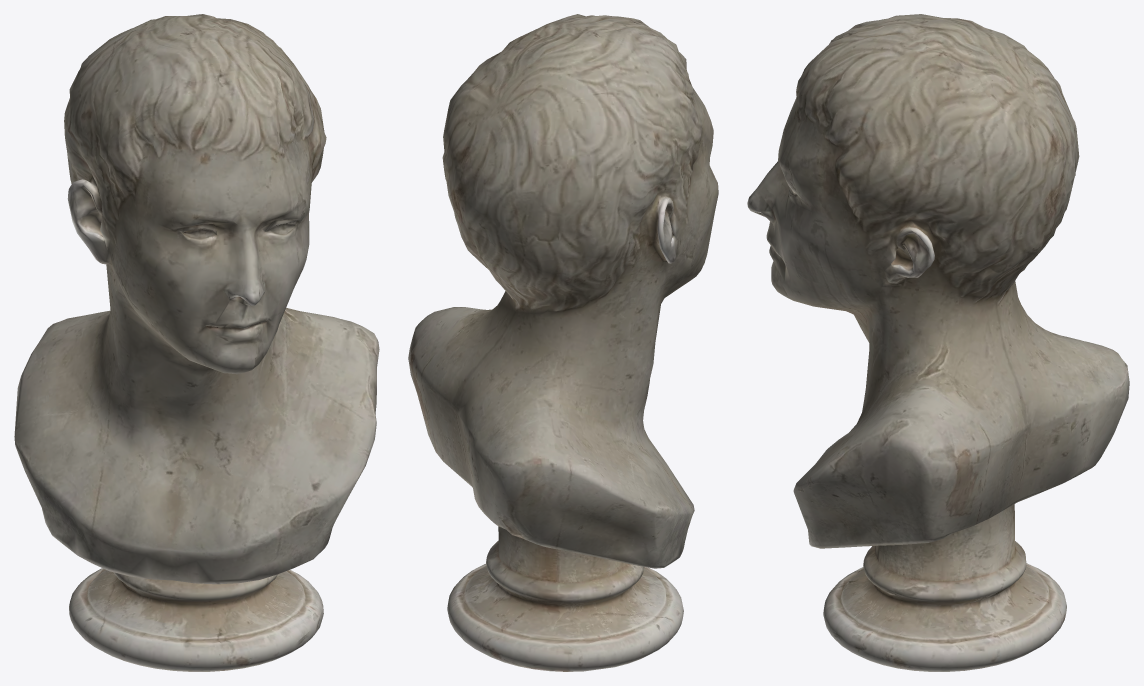
3 renders of one model, left to right at view 1: azimuth 30°, elevation 25°; view 2: azimuth 150°, elevation 25°; view 3: azimuth 270°, elevation 25°, orthographic. The views are drawn at different scales.
Visible parts, largest first — view 1: marble_bust_01; view 2: marble_bust_01; view 3: marble_bust_01.
Part boxes in pixels (x1,y1,x2,y2): marble_bust_01: [14, 14, 379, 671]; marble_bust_01: [408, 14, 718, 671]; marble_bust_01: [747, 14, 1129, 671].
Size of the model in its own units: 0.2717 by 0.5149 by 0.2997.
Materials: 1 (1 with a texture image).
